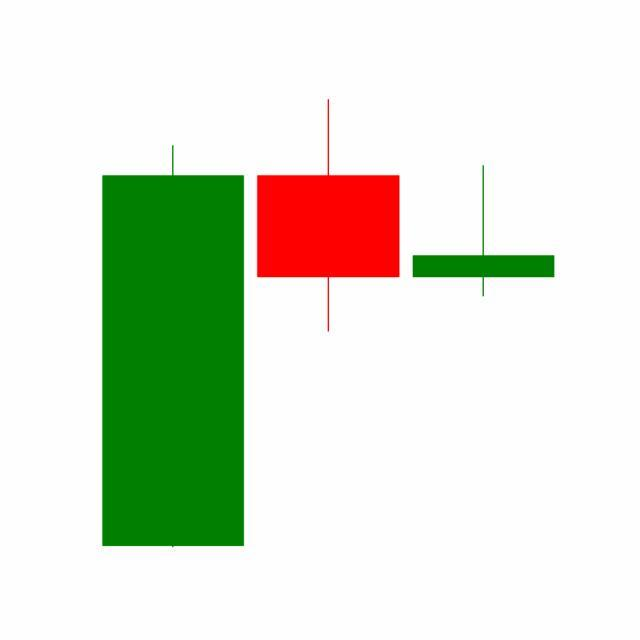Gravestone Doji: (406, 164, 562, 299)
